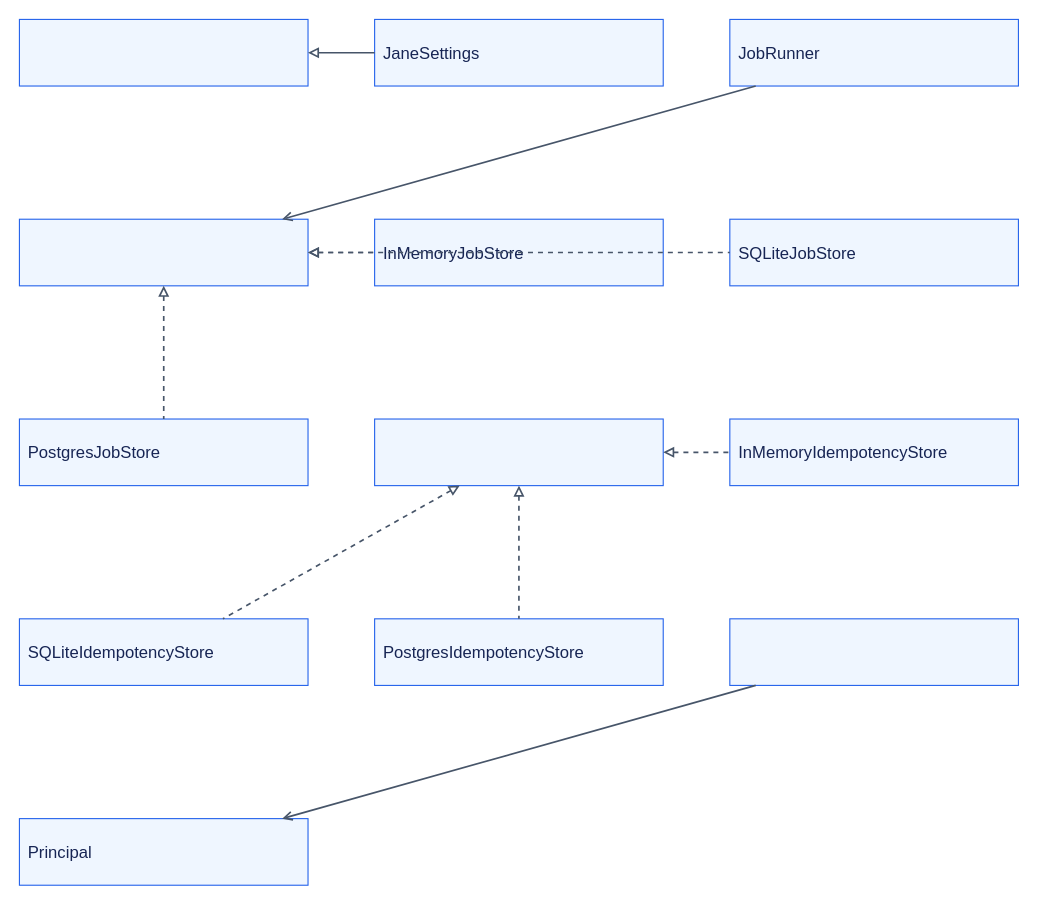
Some shapes in this 1038 by 905 pixel diagram are drawn without their labels. The box of each missing label's shape, as (x1, y1, x2, y2) in pixels:
Authenticator: (729, 618, 1018, 685)
AuthSettings: (18, 18, 308, 86)
IdempotencyStore: (374, 418, 663, 486)
JobStore: (18, 218, 308, 286)
